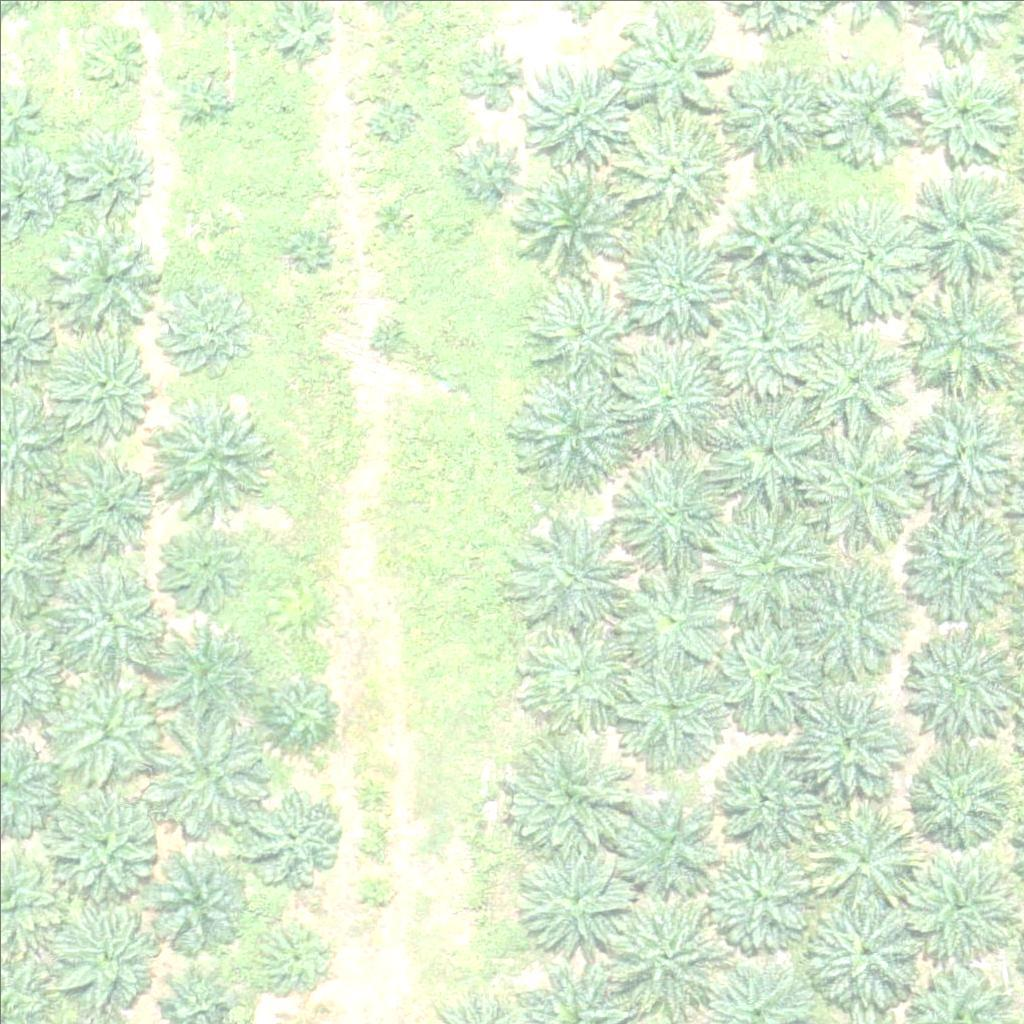Kelapa_Sawit: (508, 834, 633, 960), (509, 738, 634, 864), (607, 886, 732, 1012), (805, 882, 930, 1008), (147, 712, 272, 838), (608, 646, 733, 772), (701, 610, 826, 736), (514, 608, 639, 734), (896, 618, 1021, 744), (893, 500, 1018, 626), (897, 274, 1022, 400), (898, 158, 1023, 284), (800, 418, 925, 544), (793, 550, 918, 676), (788, 678, 913, 804), (704, 487, 829, 613), (710, 384, 835, 510), (702, 262, 827, 388), (615, 211, 740, 337), (607, 325, 732, 451), (612, 446, 737, 572), (510, 508, 635, 634), (514, 363, 639, 489), (503, 143, 628, 269), (154, 392, 279, 518), (798, 786, 923, 911), (896, 844, 1021, 969), (897, 388, 1022, 513), (802, 192, 927, 317), (44, 782, 157, 895), (54, 898, 167, 1011), (613, 781, 726, 894), (701, 841, 814, 954), (55, 222, 168, 335), (613, 9, 726, 122), (47, 666, 159, 779), (146, 615, 258, 728), (51, 559, 163, 672), (49, 326, 161, 439), (517, 49, 629, 162), (613, 114, 725, 227), (147, 845, 247, 946), (719, 752, 819, 853), (909, 752, 1009, 853), (802, 325, 902, 426), (528, 273, 628, 374), (158, 278, 258, 379), (55, 450, 155, 551), (721, 59, 821, 160), (822, 60, 922, 161), (912, 57, 1012, 158), (243, 783, 343, 883), (621, 564, 721, 664), (248, 909, 336, 997), (730, 189, 817, 278), (159, 526, 246, 614), (62, 123, 149, 211), (262, 673, 337, 749), (464, 43, 527, 106), (454, 141, 517, 204), (171, 68, 234, 131), (81, 23, 143, 86), (374, 102, 412, 140), (370, 200, 408, 238), (369, 319, 407, 357), (356, 868, 393, 906), (184, 207, 222, 244), (289, 226, 326, 264), (270, 89, 295, 114)
